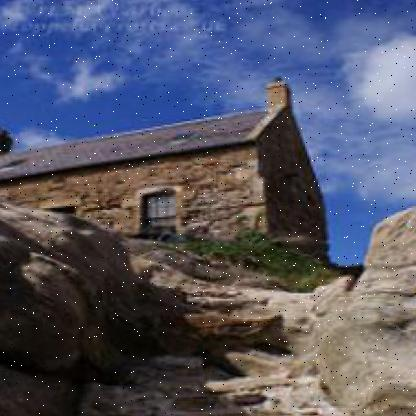stair_up: (115, 267, 328, 416)
